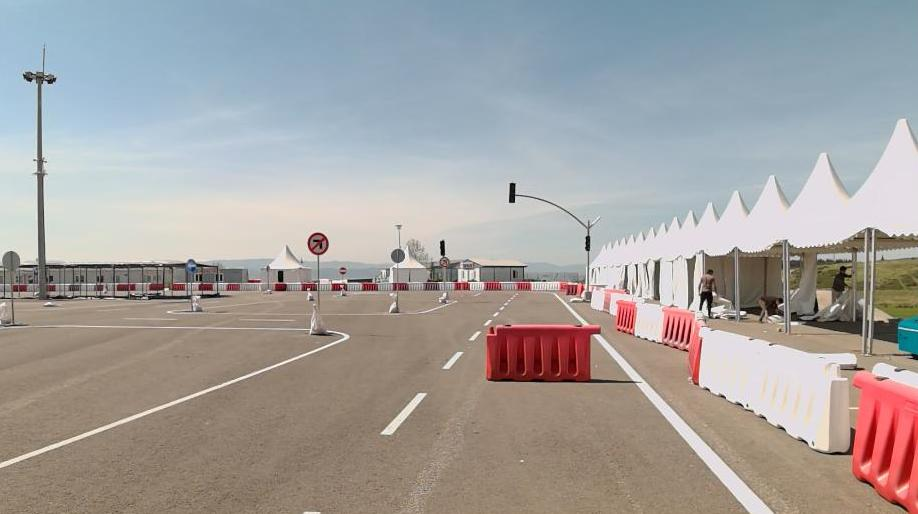nesne: (1, 290, 774, 514), (1, 291, 520, 514), (303, 290, 772, 514), (555, 291, 772, 512), (0, 337, 345, 467), (701, 328, 848, 452), (15, 308, 410, 339), (14, 314, 391, 339), (852, 372, 918, 513), (483, 323, 599, 380), (13, 310, 411, 322), (12, 324, 349, 337), (616, 299, 691, 350), (380, 391, 426, 434), (696, 269, 717, 319), (686, 319, 702, 380), (175, 311, 412, 315), (603, 289, 623, 315), (306, 232, 327, 254), (310, 306, 326, 332), (149, 283, 186, 293), (441, 351, 462, 367), (2, 251, 19, 270), (242, 282, 276, 291), (590, 288, 603, 310), (531, 281, 559, 290), (124, 317, 174, 321), (566, 282, 581, 295), (116, 283, 137, 292), (439, 280, 455, 290), (408, 282, 424, 292), (315, 282, 331, 292), (11, 284, 27, 294), (242, 318, 294, 321), (391, 282, 408, 291), (362, 282, 378, 291), (332, 282, 346, 292), (302, 282, 316, 292), (517, 281, 532, 290), (286, 282, 301, 291), (508, 182, 515, 201), (102, 283, 114, 294), (192, 297, 203, 309), (185, 258, 195, 271), (469, 282, 485, 290), (198, 283, 214, 291), (499, 281, 514, 289), (485, 282, 500, 290), (456, 282, 471, 290), (424, 282, 439, 290), (185, 282, 198, 291), (469, 329, 480, 339), (55, 285, 66, 295), (27, 283, 38, 293), (136, 284, 148, 293), (347, 283, 362, 290), (227, 283, 240, 291), (213, 282, 226, 290), (93, 283, 103, 293), (81, 285, 92, 294), (388, 302, 399, 311), (378, 283, 392, 290), (68, 285, 80, 293), (439, 256, 448, 266), (585, 234, 590, 249), (560, 282, 568, 291), (275, 283, 284, 291), (338, 267, 344, 273)
